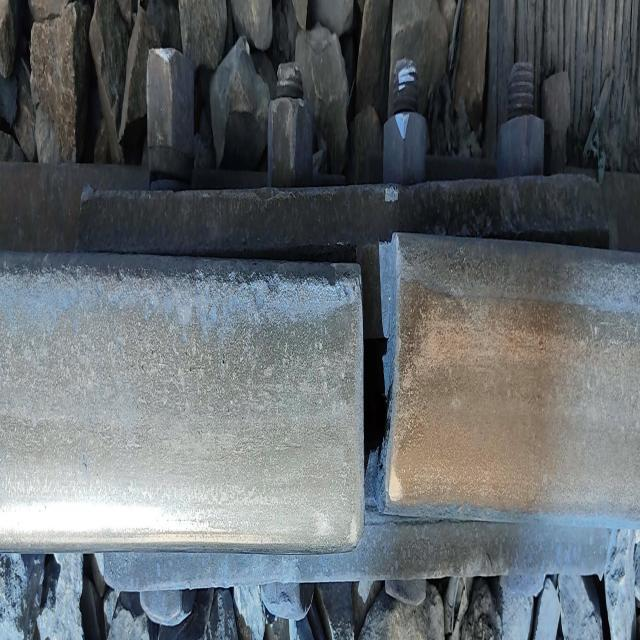Good Joint: (80, 65, 622, 576)
